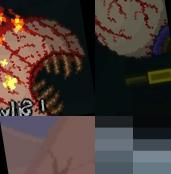eyeC: (0, 0, 95, 116), (95, 0, 171, 78)
sword: (95, 116, 171, 174)
